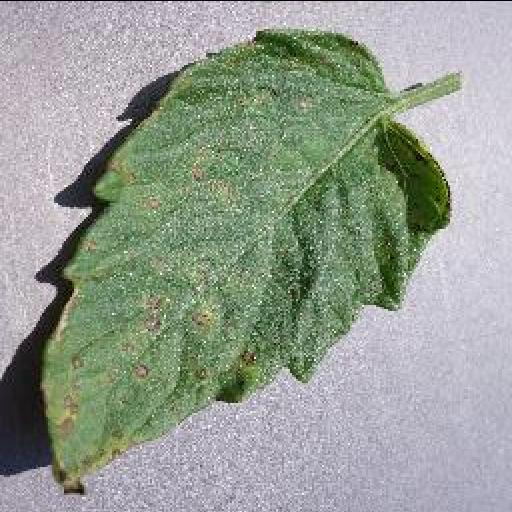disease_tomato: (34, 24, 452, 492)
